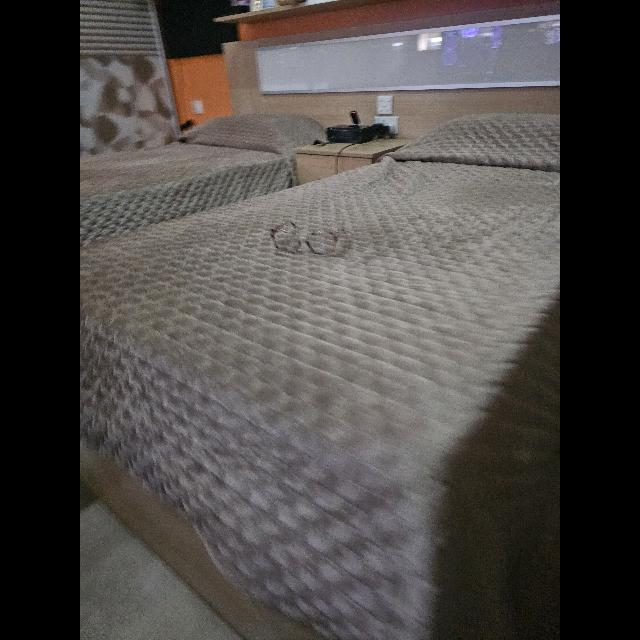glasses: (270, 222, 346, 256)
